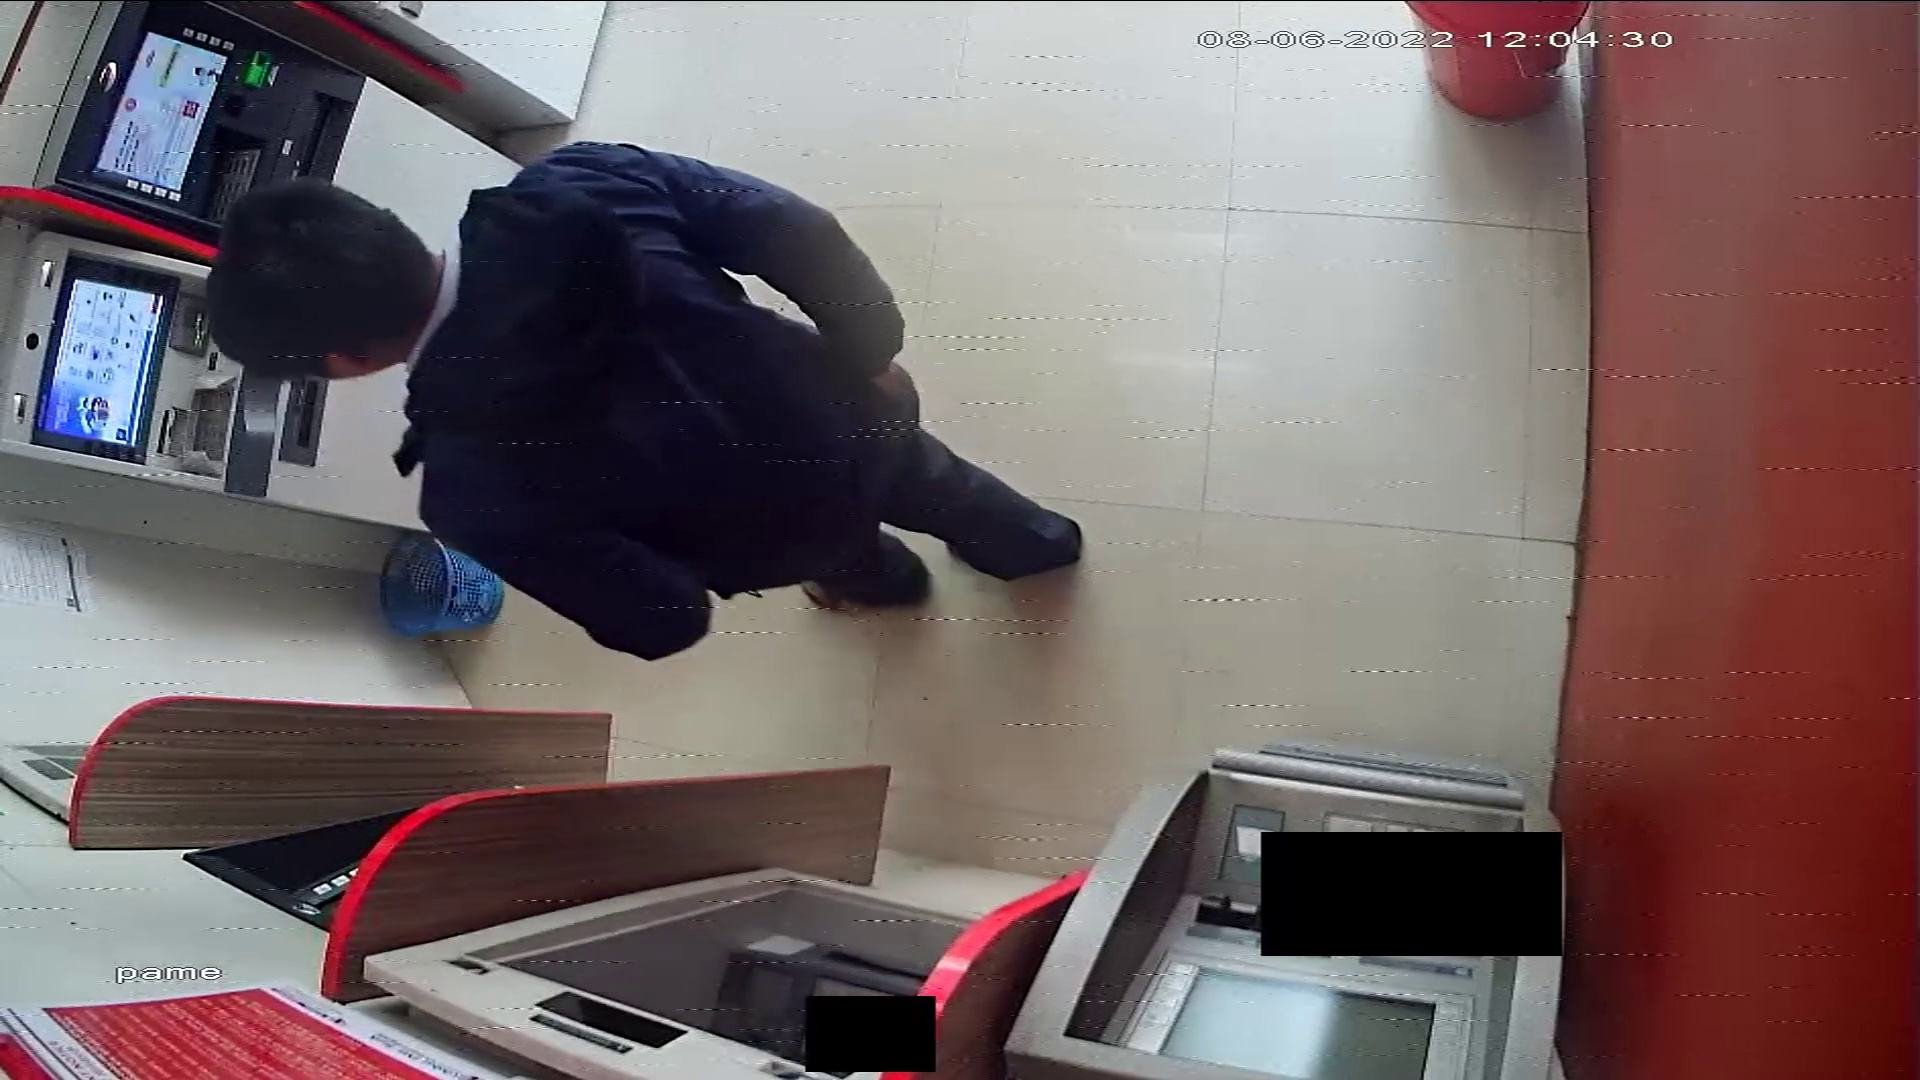person: (206, 138, 1086, 663)
